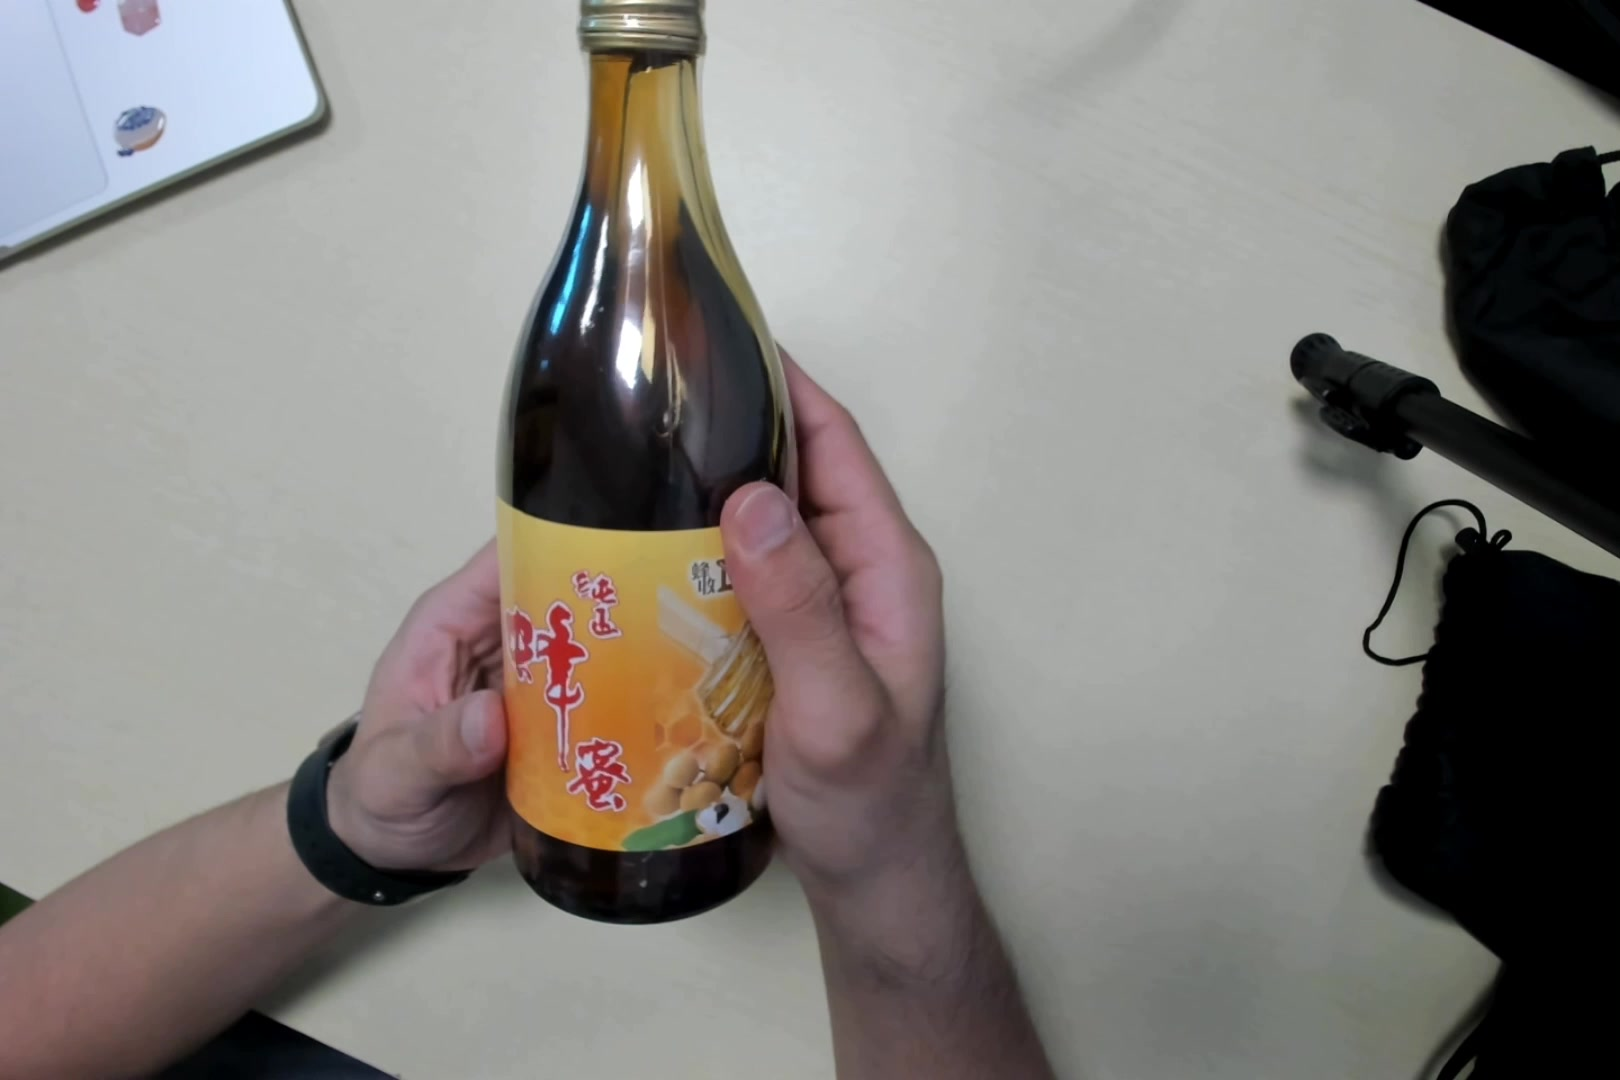OtherBakingNeeds_700-799g_Halal_NonHealthy: (495, 6, 802, 927)
